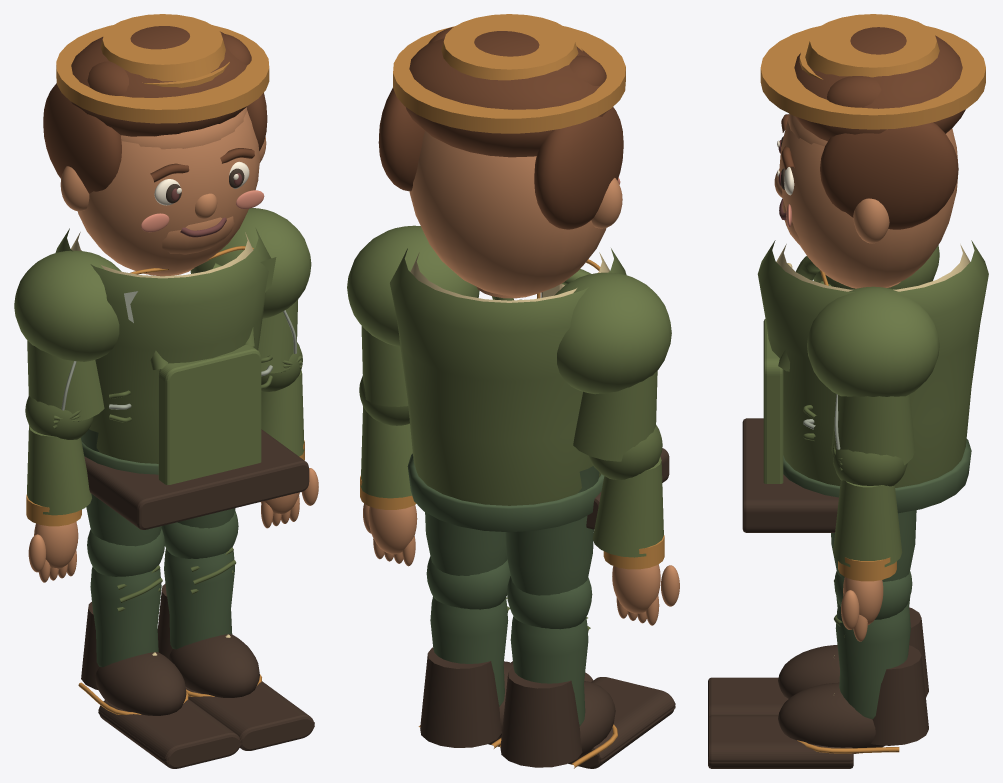
File: ivy.glb
The picture shows the model from 3 angles, left to right: view 1: azimuth 30°, elevation 25°; view 2: azimuth 150°, elevation 25°; view 3: azimuth 270°, elevation 25°; orthographic projection. The views are drawn at different scales.
Visible parts, largest first — view 1: Tailored coat, Face, Apron panel, Tool belt, Shoulder -1, Woven hat brim, Farmer hat crown, Hair cap, Sole -1, Trousers calf -1, Trousers calf 1, Side hair -1 (+26 smaller); view 2: Tailored coat, Face, Shoulder -1, Hair cap, Woven hat brim, Side hair -1, Shoulder 1, Boot shaft -1, Boot shaft 1, Farmer hat crown, Trousers thigh -1, Trouser waistband (+22 smaller); view 3: Tailored coat, Shoulder 1, Face, Side hair 1, Woven hat brim, Hair cap, Tool belt, Farmer hat crown, Sole 1, Trousers calf 1, Sleeve forearm 1, Leather toe 1 (+19 smaller).
Part boxes in pixels (x1,y1,x2,y2): Tailored coat: (55,228,271,463); Face: (77,111,259,275); Apron panel: (158,345,261,484); Tool belt: (84,429,309,529); Shoulder -1: (14,250,121,361); Woven hat brim: (56,25,269,123); Farmer hat crown: (100,14,225,81); Hair cap: (71,26,246,136); Sole -1: (98,699,240,768); Trousers calf -1: (90,566,161,667); Trousers calf 1: (164,548,234,649); Side hair -1: (43,83,121,193); Tailored coat: (390,248,626,505); Face: (409,130,606,296); Shoulder -1: (554,272,671,394); Hair cap: (406,31,610,157); Woven hat brim: (393,26,625,133); Side hair -1: (534,107,623,229); Shoulder 1: (347,225,479,346); Boot shaft -1: (500,667,582,767); Boot shaft 1: (420,647,501,747); Farmer hat crown: (441,14,578,80); Trousers thigh -1: (505,466,599,595); Trouser waistband: (407,453,604,532); Tailored coat: (757,240,988,487); Shoulder 1: (807,286,939,396); Face: (779,116,958,288); Side hair 1: (820,122,958,229); Woven hat brim: (760,26,985,129); Hair cap: (794,27,965,141); Tool belt: (742,418,838,532); Farmer hat crown: (805,14,939,77); Sole 1: (708,715,853,768); Trousers calf 1: (835,604,910,719); Sleeve forearm 1: (833,480,902,566); Leather toe 1: (778,682,884,753).
Size of the model in its own units: 1.21 by 2.66 by 0.972.
